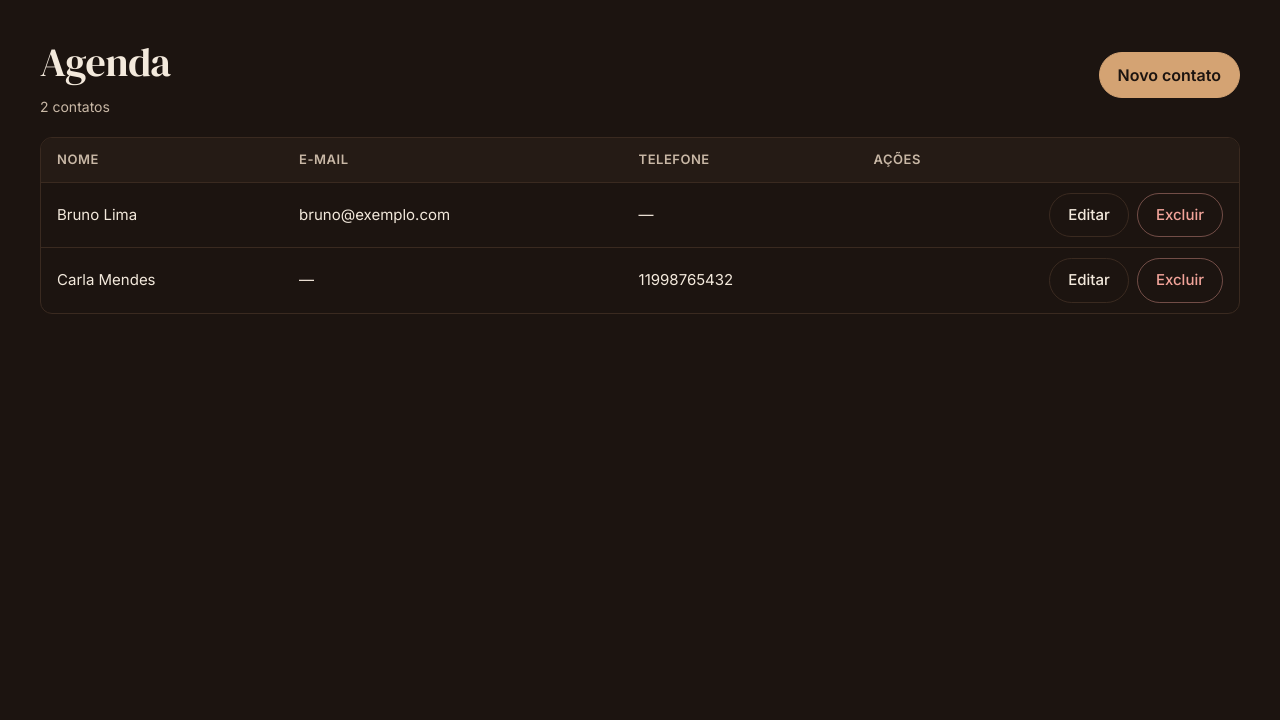
Scenario: ContactsPage › ContactsPage_DeleteOfMissingContact_WarnsAndRefreshes
What coordinates should you click on to do the following:
click the button with aria-label "Excluir Bruno Lima"
I would click on:
 (1180, 215)
Its box is [1137,192,1223,237].
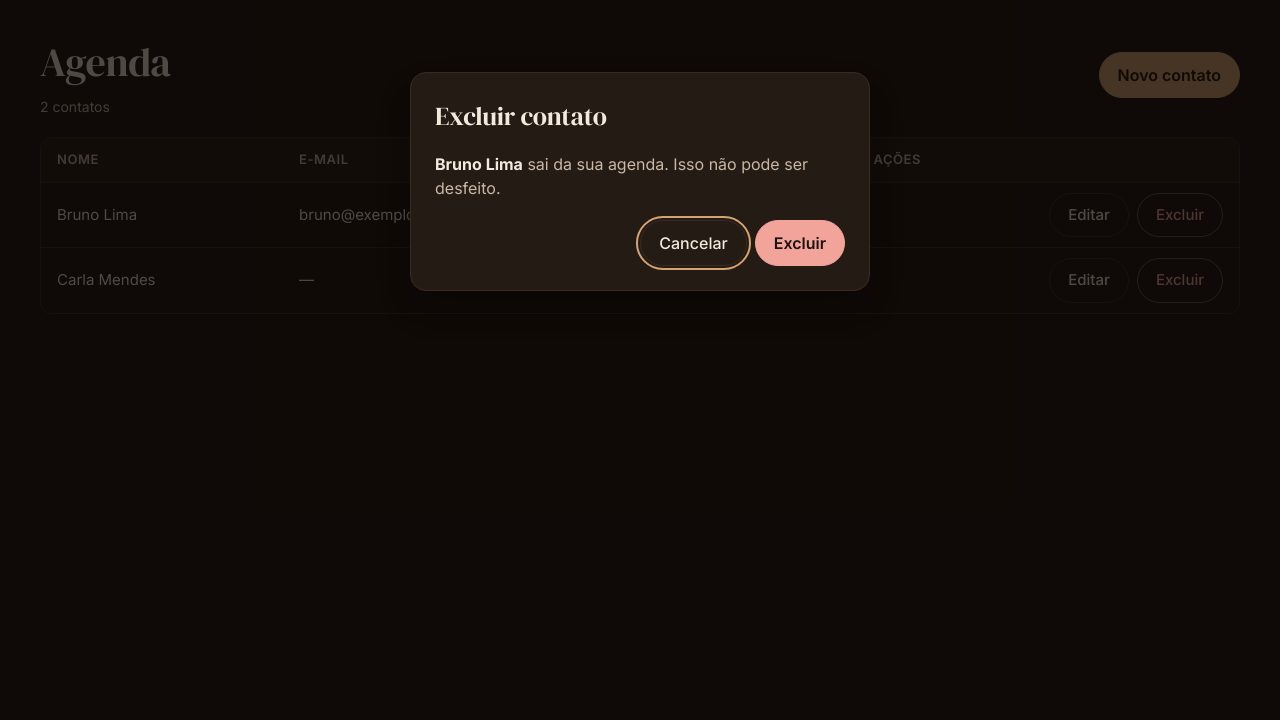
What coordinates should you click on to do the following:
click the button "Excluir"
I would click on:
 (800, 243)
Its box is [755,220,845,266].
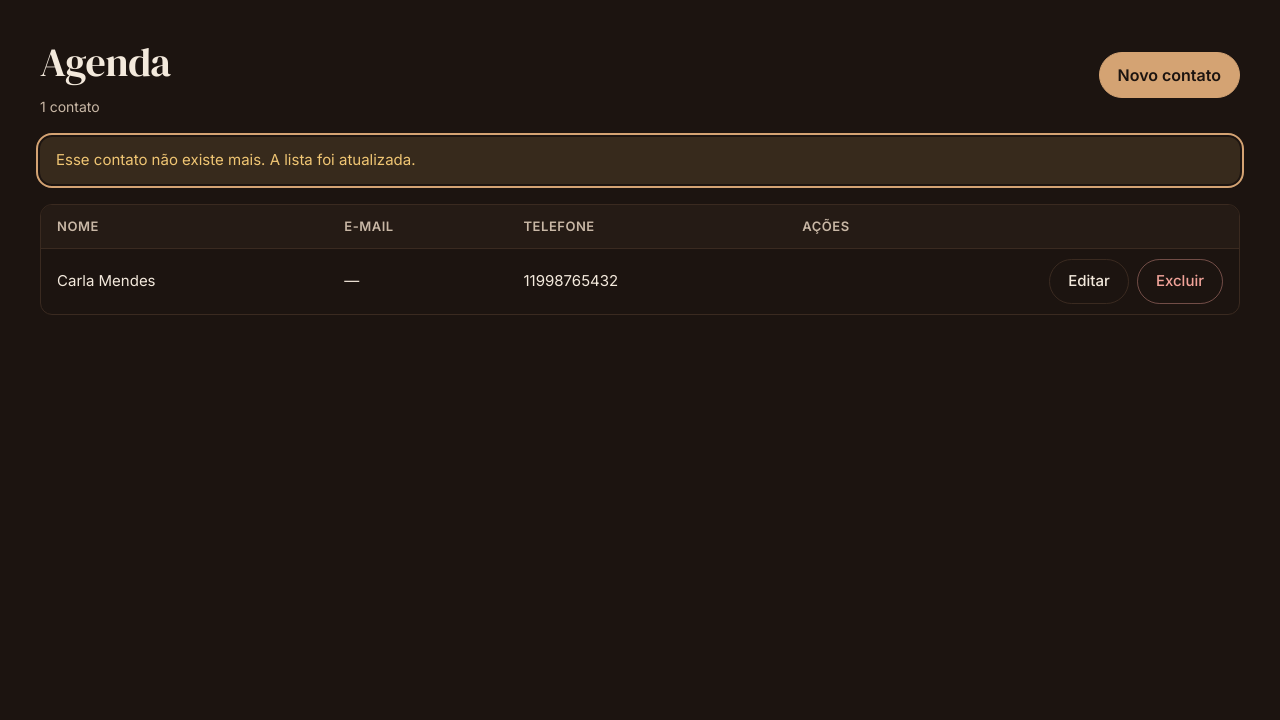
Now the message reads "Esse contato não existe mais. A lista foi atualizada.", box [56,150,416,169]
Now the text "Bruno Lima" is gone
